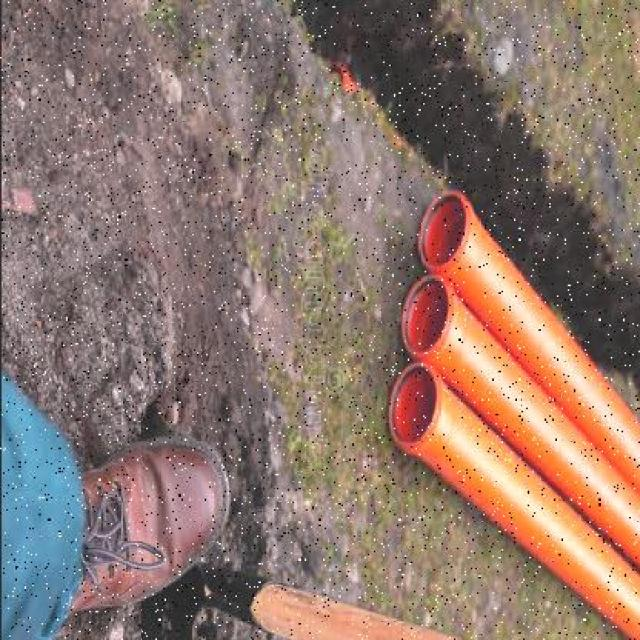shoes: (47, 411, 242, 632)
